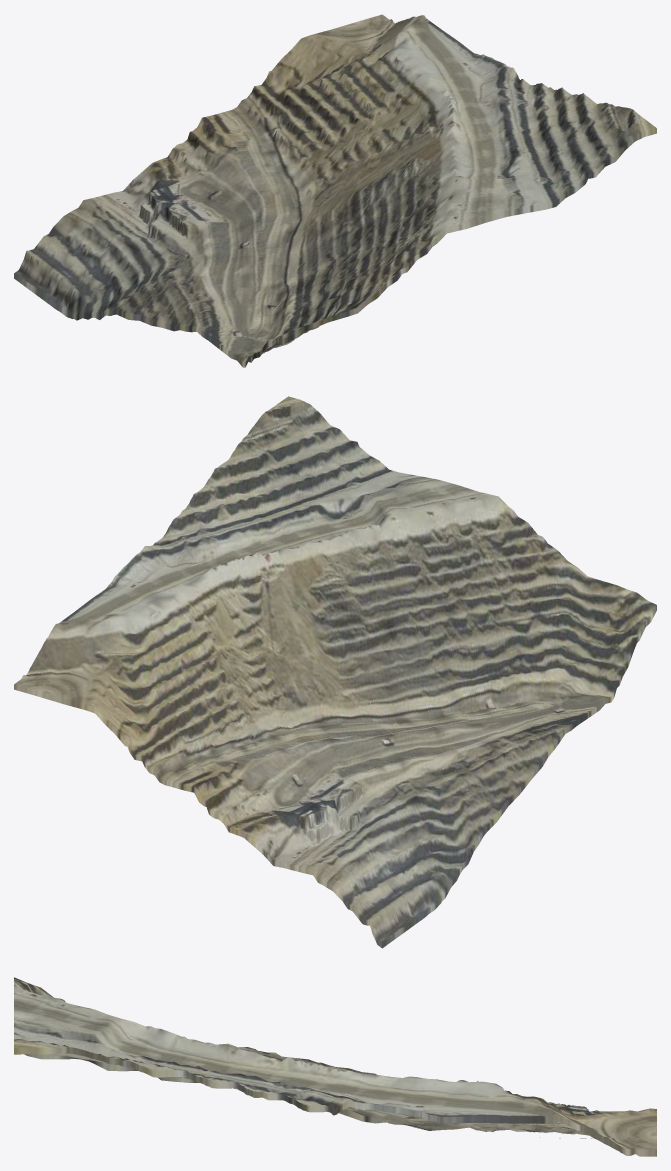
3 views of the same model, one above another, from view 1: azimuth 30°, elevation 25°; view 2: azimuth 150°, elevation 25°; view 3: azimuth 270°, elevation 25° (orthographic). The views are drawn at different scales.
Visible parts, largest first — view 1: l1-3-1; view 2: l1-3-1; view 3: l1-3-1.
Part boxes in pixels (x1=…): l1-3-1: x1=14, y1=14, x2=656, y2=367; l1-3-1: x1=14, y1=396, x2=656, y2=948; l1-3-1: x1=14, y1=977, x2=656, y2=1156.
Size of the model in its own units: 595 by 406 by 768.
Materials: 1 (1 with a texture image).
